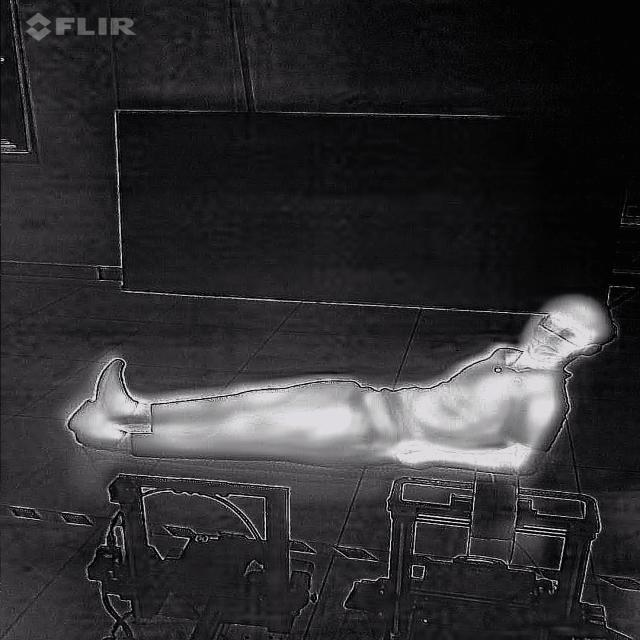Victim: (55, 290, 630, 482)
